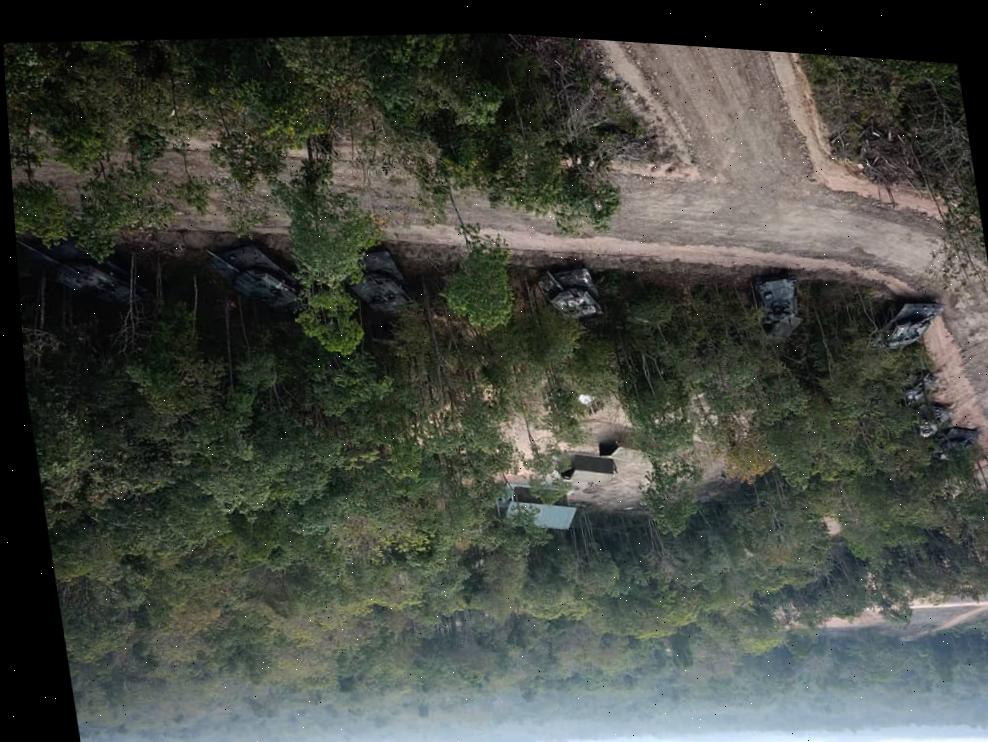armored_car: (14, 217, 150, 325), (746, 264, 806, 341)
tank: (202, 233, 304, 316), (860, 293, 950, 355), (344, 240, 417, 316), (532, 258, 604, 321)
